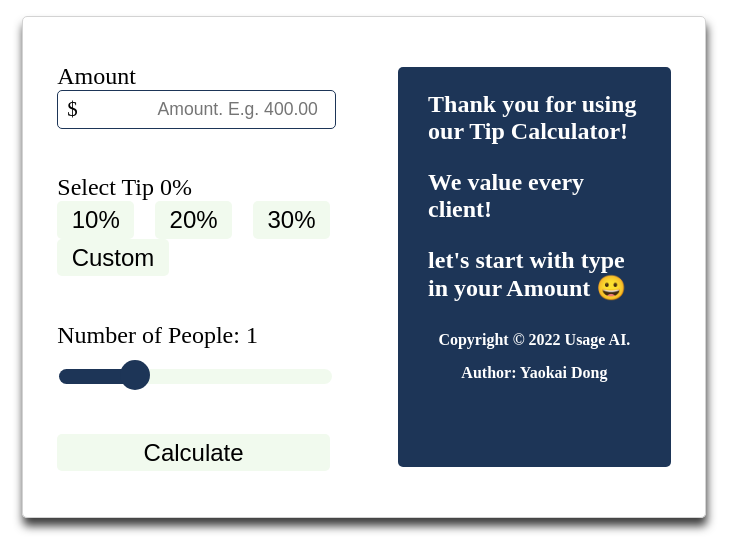
Should enable user fill in the form correctly
Type "400" into the number field with test id "amountInput" at (197, 109), box 57,90 -> 336,129
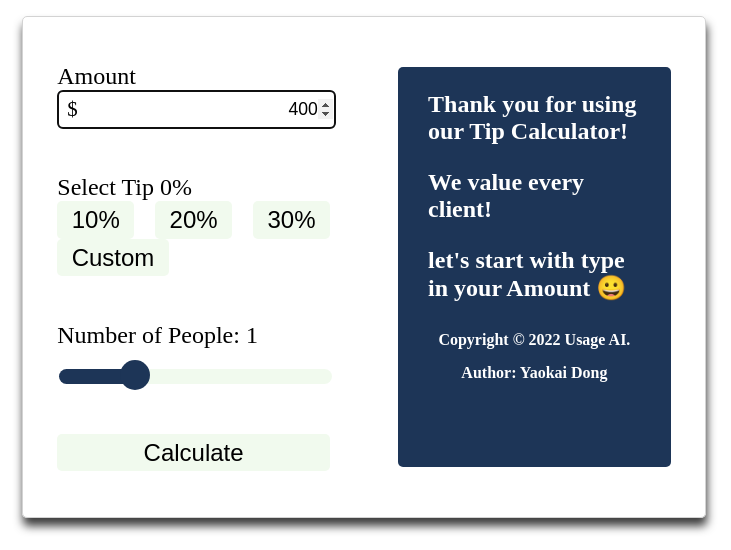
Click the button with test id "10" at (96, 220), box 57,201 -> 134,239
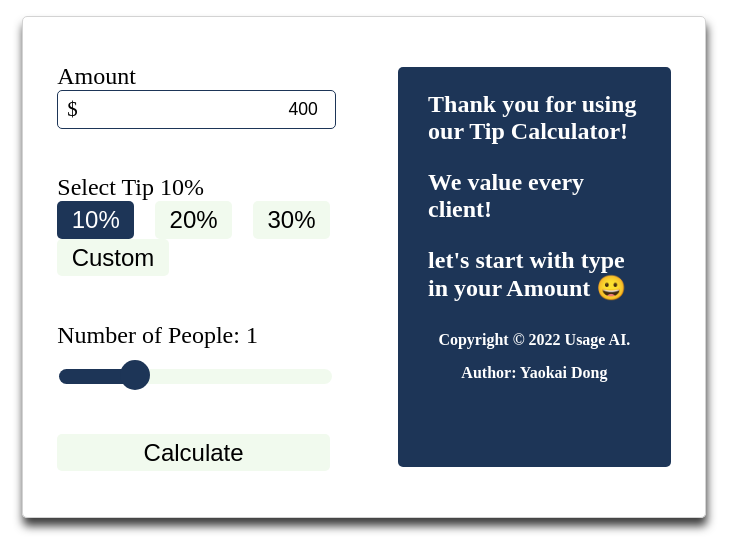
Check: the text "Select Tip 10%" is shown, box 57,174 -> 204,201
Click the button with test id "calButton" at (194, 453), box 57,434 -> 330,471
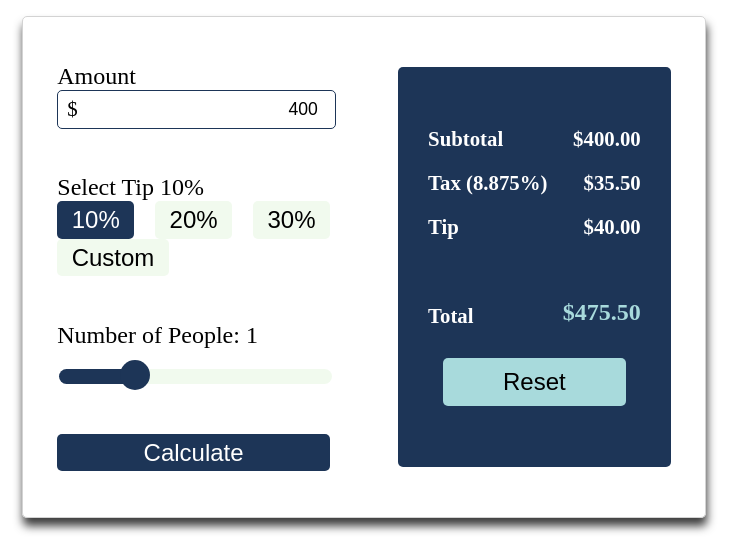
Check: the heading "Subtotal" is shown, box 423,122 -> 508,156
